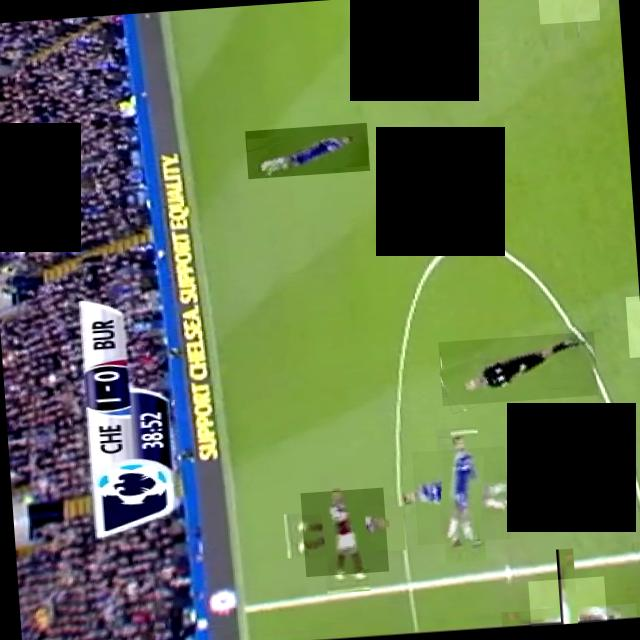referee: (438, 330, 598, 405)
soccer-player: (412, 444, 511, 544), (300, 486, 389, 576), (244, 121, 370, 177), (528, 575, 606, 626), (537, 0, 600, 23), (625, 294, 640, 356)
